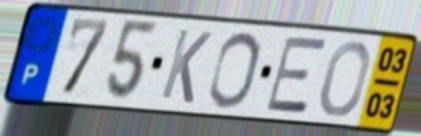5: (102, 16, 162, 106)
7: (60, 15, 113, 100)
E: (263, 35, 329, 116)
K: (157, 26, 215, 107)
O: (206, 30, 263, 111), (318, 38, 372, 119)
